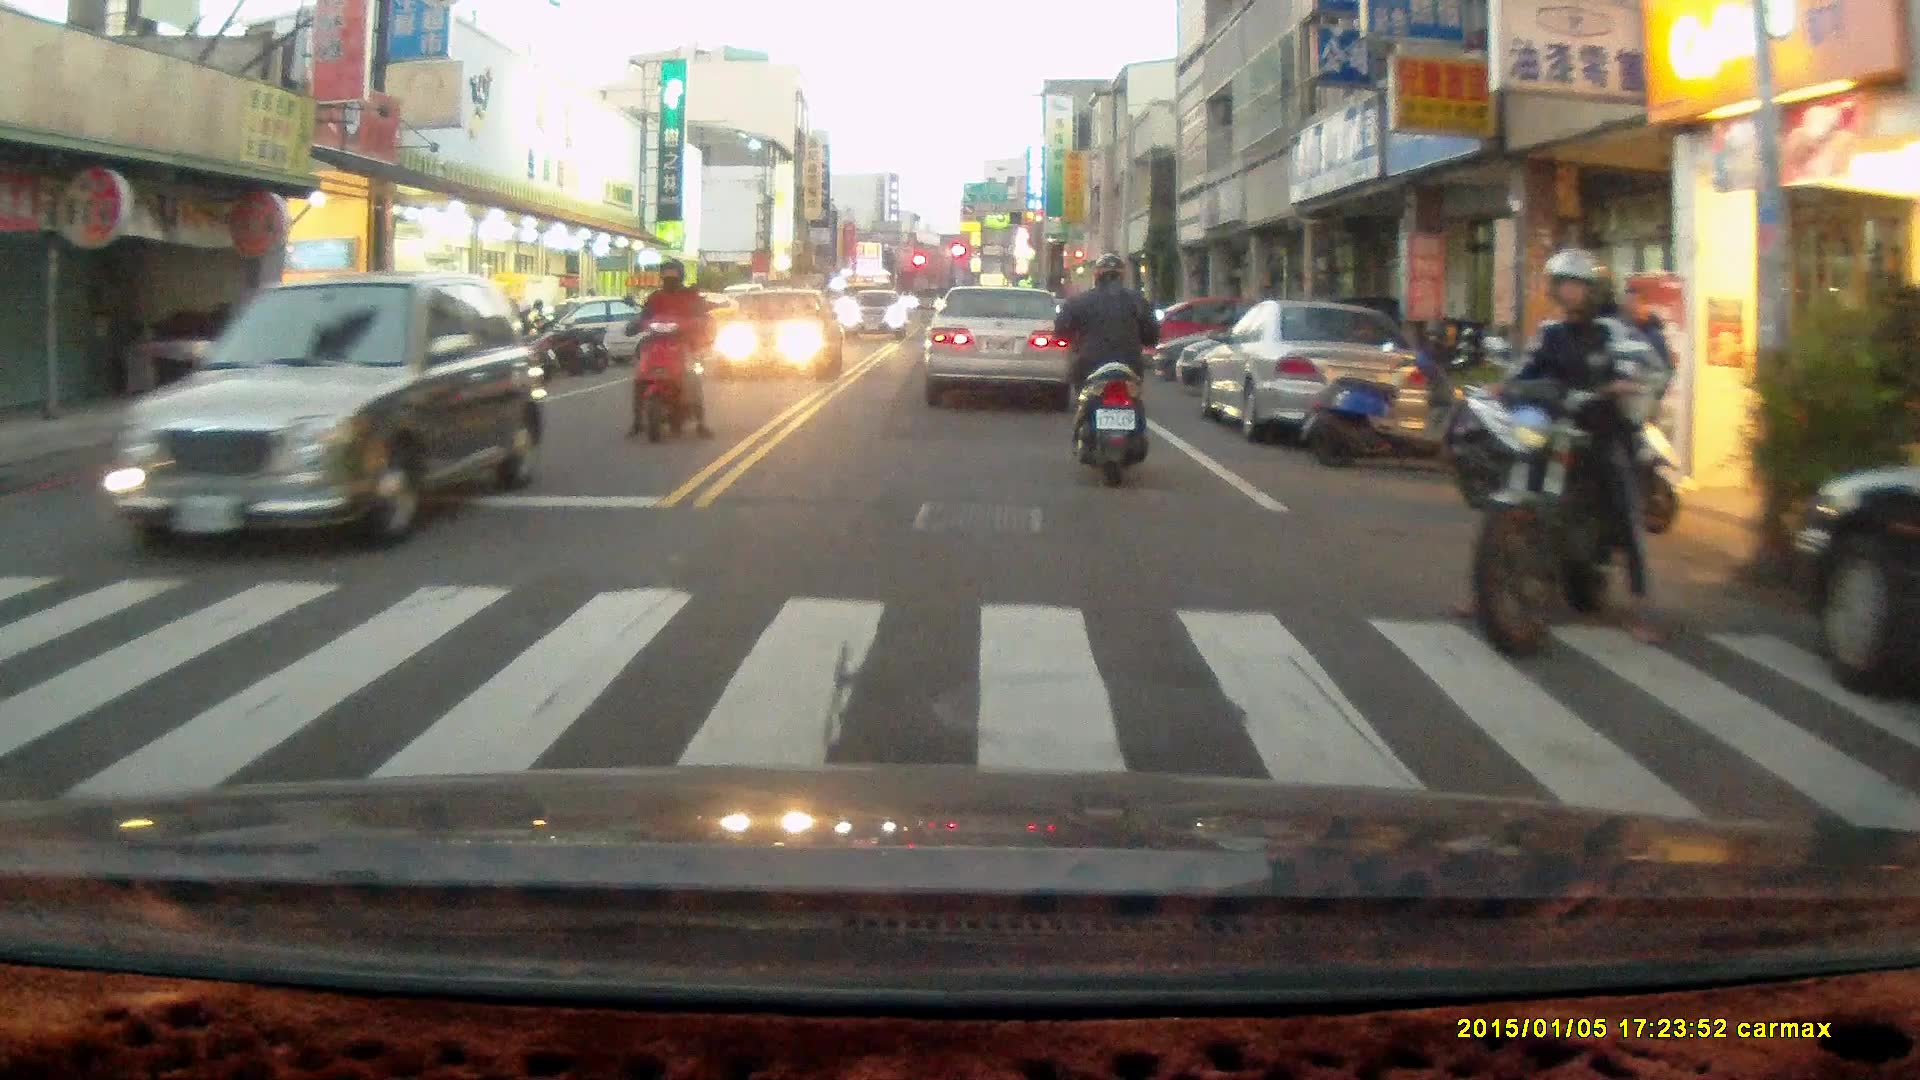rider: (1465, 249, 1674, 656), (1053, 251, 1166, 486), (620, 258, 712, 449)
vehicle: (108, 270, 550, 558), (1784, 447, 1920, 699), (1205, 304, 1437, 451), (927, 286, 1082, 387), (708, 285, 840, 379), (839, 289, 915, 346)
